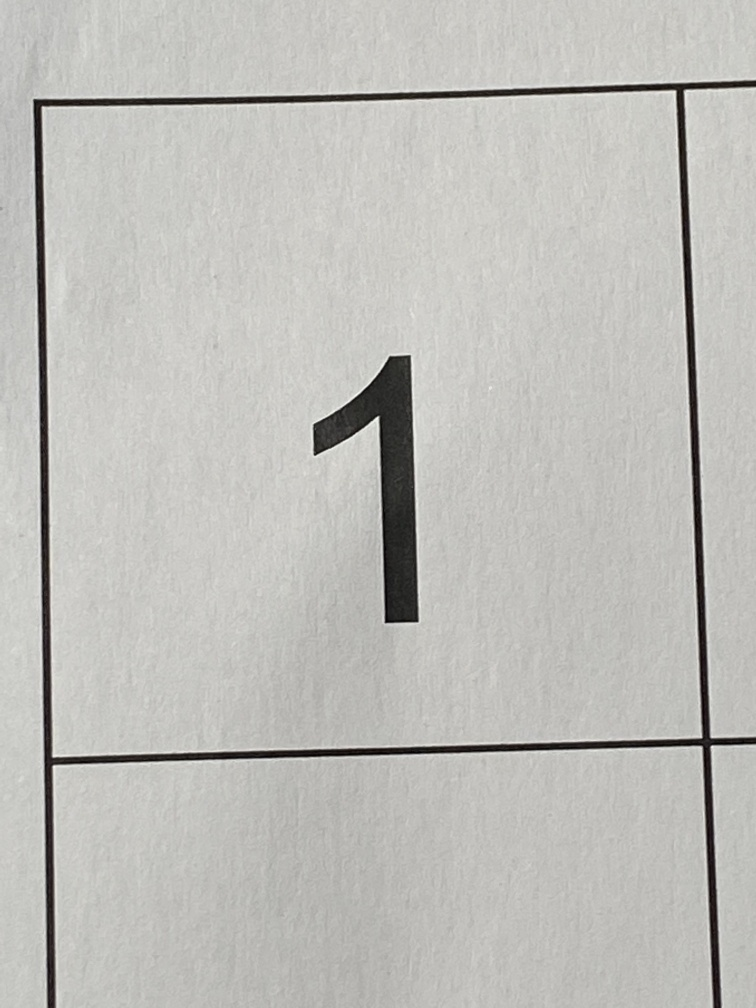one: (278, 311, 502, 693)
